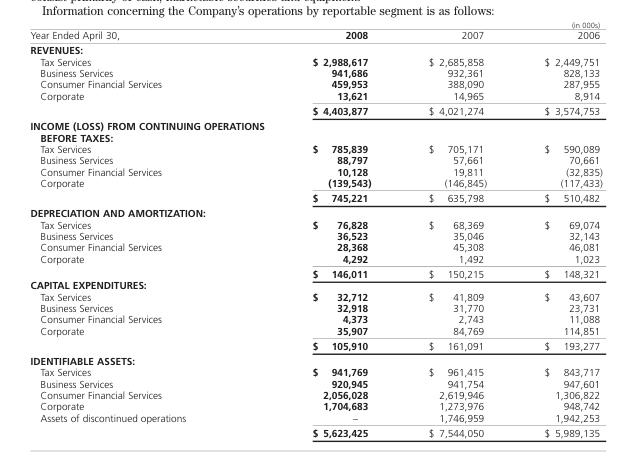table: (29, 28, 601, 438)
table column: (29, 28, 248, 438), (248, 28, 399, 438), (399, 28, 514, 438), (514, 28, 601, 438)
table column header: (29, 28, 601, 42)
table projected row header: (29, 117, 601, 142), (29, 352, 601, 366), (29, 42, 601, 55), (29, 205, 601, 218), (29, 278, 601, 290)
table row: (29, 117, 601, 142), (29, 189, 601, 205), (29, 102, 601, 117), (29, 337, 601, 352), (29, 28, 601, 42), (29, 352, 601, 366), (29, 424, 601, 438), (29, 42, 601, 55), (29, 89, 601, 102), (29, 176, 601, 189), (29, 205, 601, 218), (29, 252, 601, 265), (29, 265, 601, 278), (29, 324, 601, 337), (29, 411, 601, 424), (29, 66, 601, 78), (29, 153, 601, 165), (29, 229, 601, 241), (29, 278, 601, 290), (29, 301, 601, 313), (29, 388, 601, 400), (29, 55, 601, 66), (29, 78, 601, 89), (29, 142, 601, 153), (29, 165, 601, 176), (29, 218, 601, 229), (29, 241, 601, 252), (29, 290, 601, 301), (29, 313, 601, 324), (29, 366, 601, 377), (29, 377, 601, 388), (29, 400, 601, 411)
